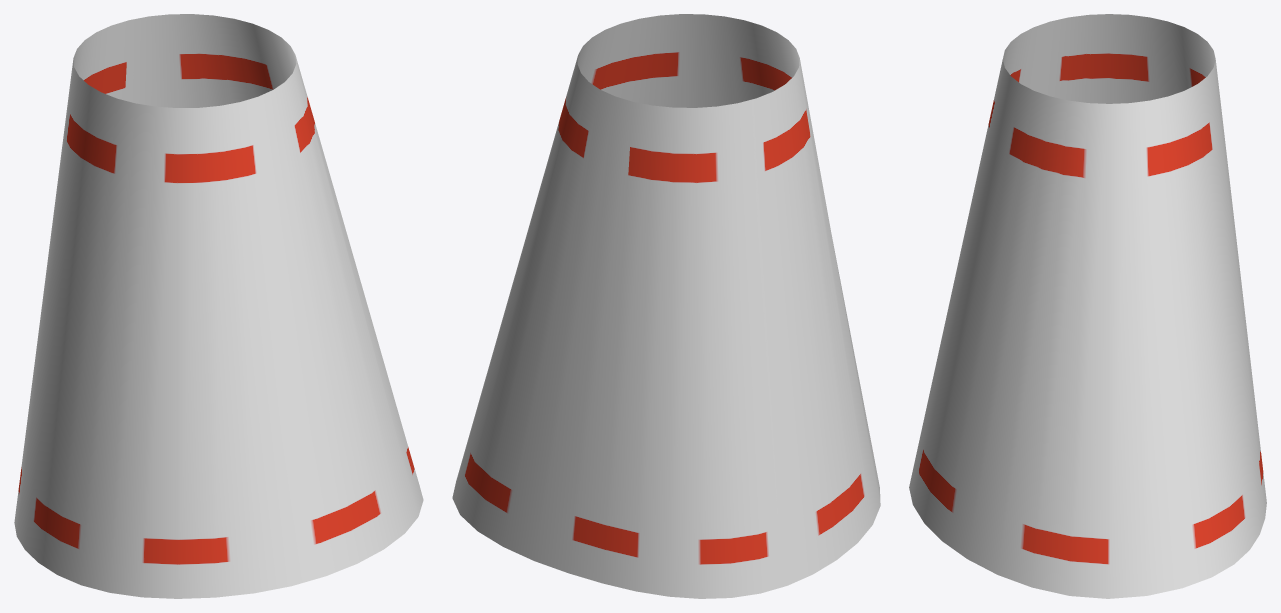
File: reimu_lsleeve.glb
3 views of the same model, side by side, from view 1: azimuth 30°, elevation 25°; view 2: azimuth 150°, elevation 25°; view 3: azimuth 270°, elevation 25° (orthographic). The views are drawn at different scales.
Visible parts, largest first — view 1: reimu_lsleeve; view 2: reimu_lsleeve; view 3: reimu_lsleeve.
Boxes of the visible parts, x1,y1,x2,y2 form: reimu_lsleeve: [14, 14, 423, 598]; reimu_lsleeve: [452, 14, 880, 598]; reimu_lsleeve: [909, 14, 1266, 598].
Size of the model in its own units: 0.4649 by 0.5667 by 0.4118.
1 material, 1 textured.
